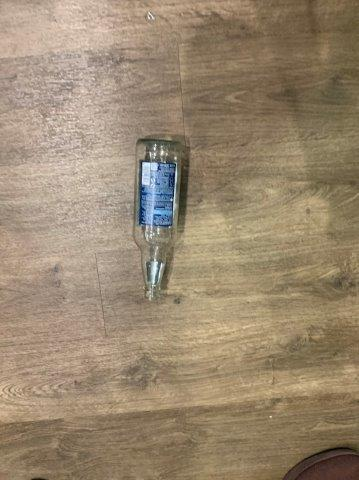botolkaca: (134, 138, 183, 301)
